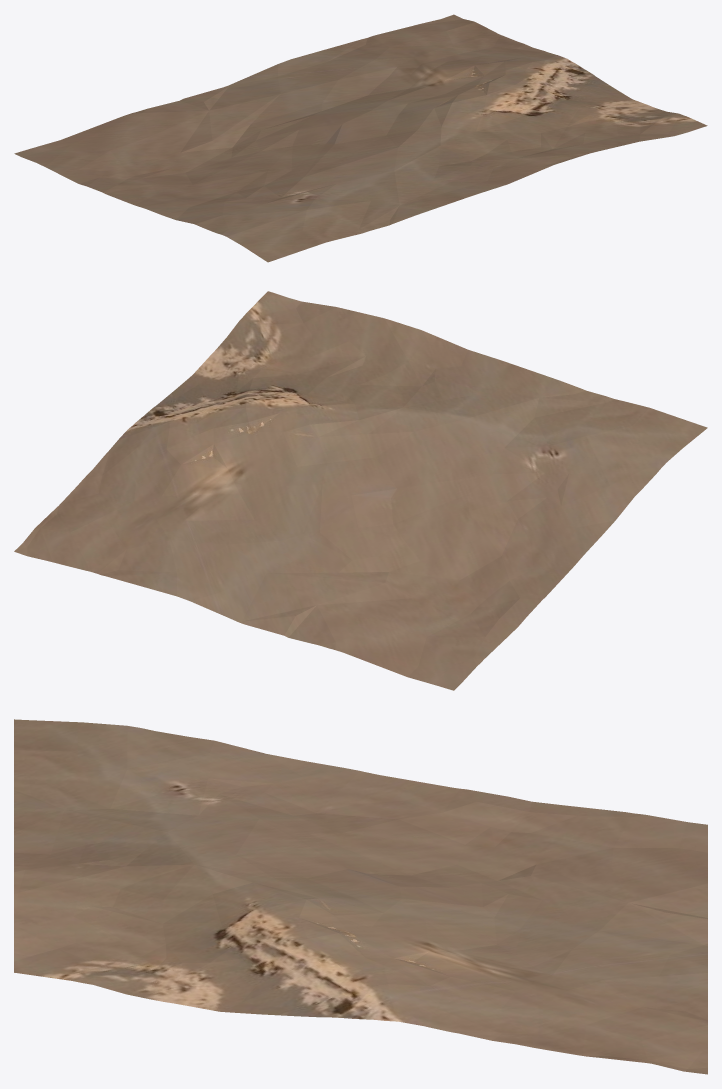
The picture shows the model from 3 angles, top to bottom: view 1: azimuth 30°, elevation 25°; view 2: azimuth 150°, elevation 25°; view 3: azimuth 270°, elevation 25°; orthographic projection. The views are drawn at different scales.
Size of the model in its own units: 1.04 by 0.2442 by 1.04.
2 materials, 2 textured.
